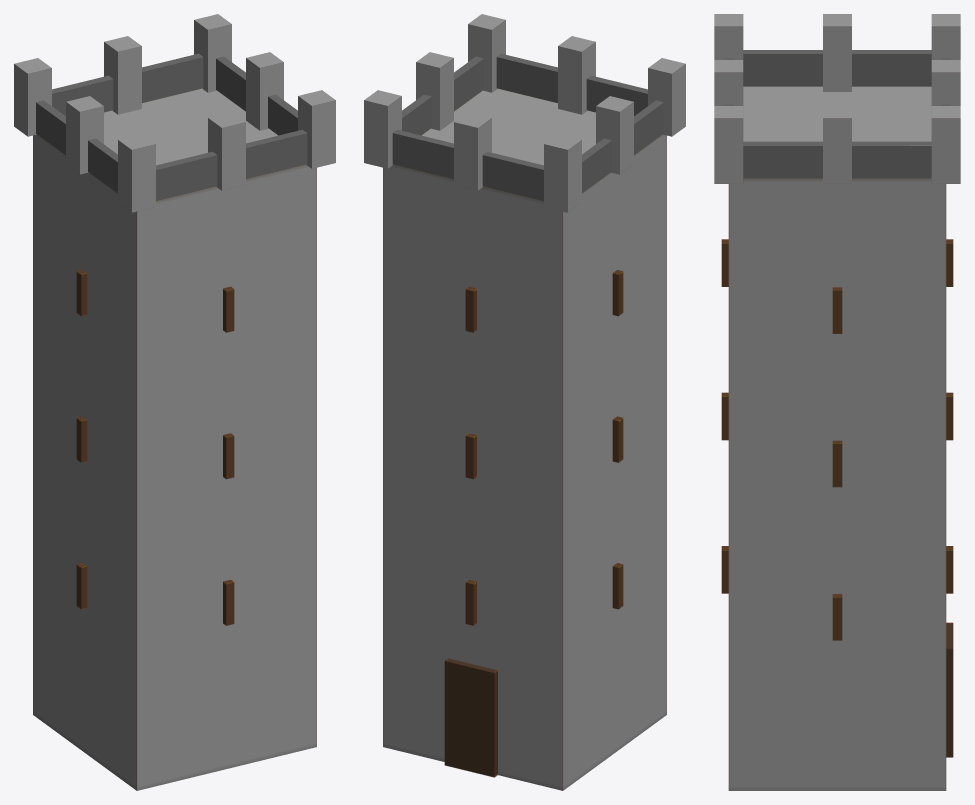
The model's file is Tower.fbx.
3 views of the same model, side by side, from view 1: azimuth 30°, elevation 25°; view 2: azimuth 150°, elevation 25°; view 3: azimuth 270°, elevation 25° (orthographic). The views are drawn at different scales.
Parts seen in each view (by area): view 1: Tower; view 2: Tower; view 3: Tower.
Part boxes in pixels (x1,y1,x2,y2): Tower: (14, 14, 335, 790); Tower: (364, 14, 685, 790); Tower: (714, 14, 960, 790).
Bounding box in the file's own units: 102 × 310 × 102.
Materials: 1 (1 with a texture image).
